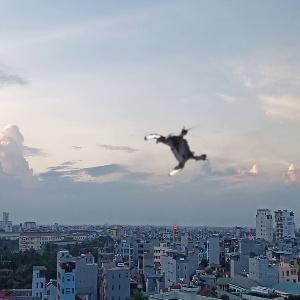drone: (148, 120, 208, 180)
